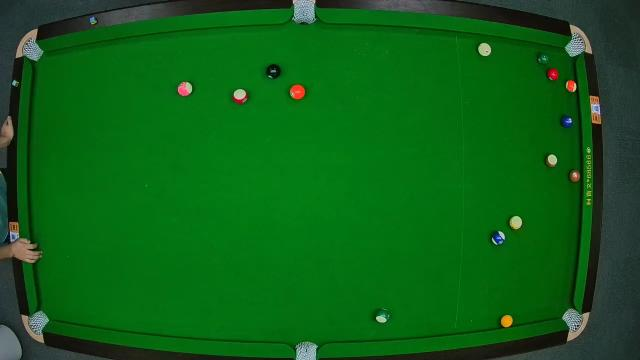bag1: (24, 40, 40, 62)
bag2: (292, 2, 316, 22)
bag3: (566, 34, 584, 56)
bag4: (27, 310, 49, 336)
bag5: (295, 342, 319, 360)
bag6: (562, 308, 584, 332)
ball0: (477, 42, 493, 58)
ball1: (500, 312, 512, 330)
ball10: (492, 229, 506, 246)
ball11: (232, 88, 250, 104)
ball12: (175, 82, 192, 96)
ball13: (564, 78, 578, 92)
ball14: (373, 308, 391, 324)
ball15: (544, 154, 558, 168)
ball2: (561, 113, 575, 129)
ball3: (546, 68, 560, 80)
ball5: (288, 84, 306, 100)
ball6: (537, 52, 551, 66)
ball7: (568, 168, 582, 184)
ball8: (266, 64, 282, 80)
ball9: (508, 216, 524, 230)
